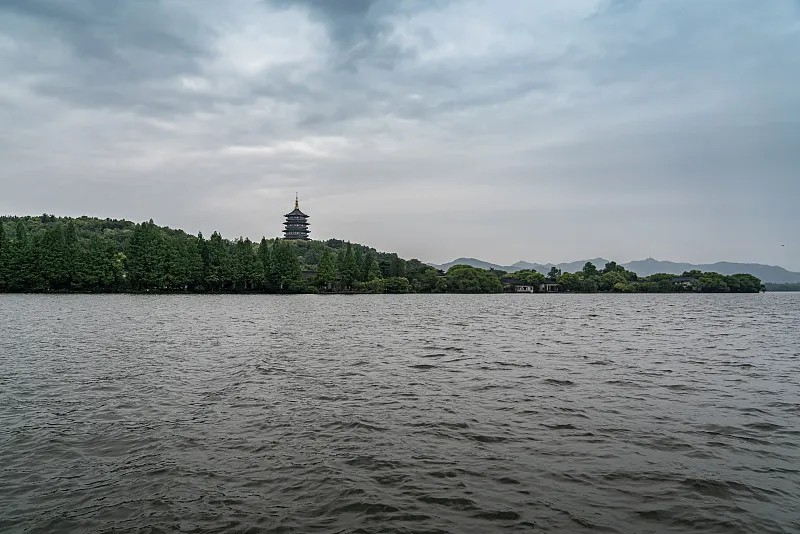Leifeng: (282, 191, 311, 240)
